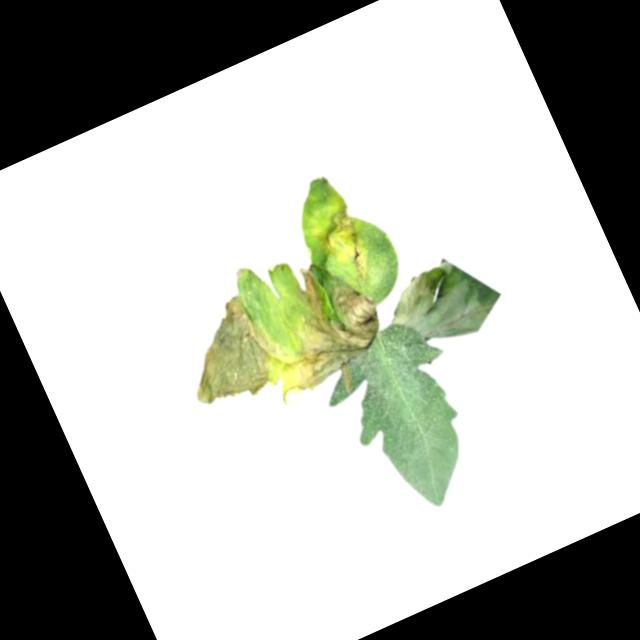Late_blight: (251, 247, 394, 394), (374, 241, 510, 362), (162, 289, 287, 418), (311, 203, 379, 285)
healthy: (307, 311, 500, 534)
